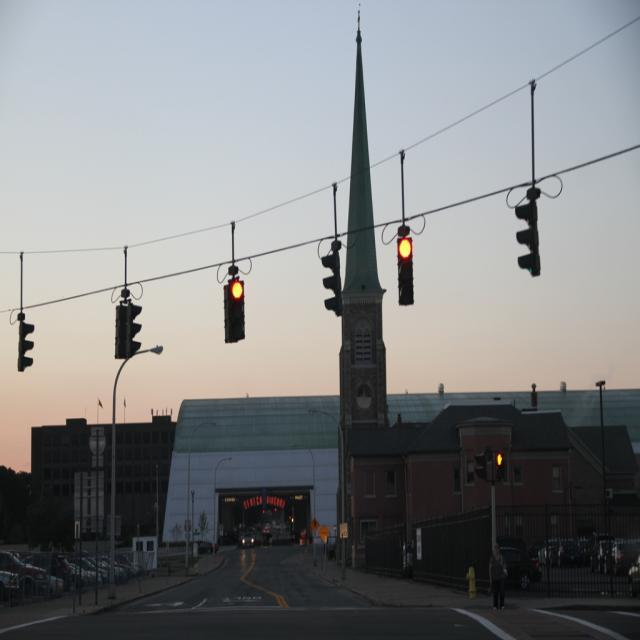off traffic light: (516, 198, 541, 277), (321, 251, 343, 317), (127, 302, 142, 358), (18, 321, 34, 372)
traffic light: (397, 236, 415, 305), (228, 278, 245, 341)
